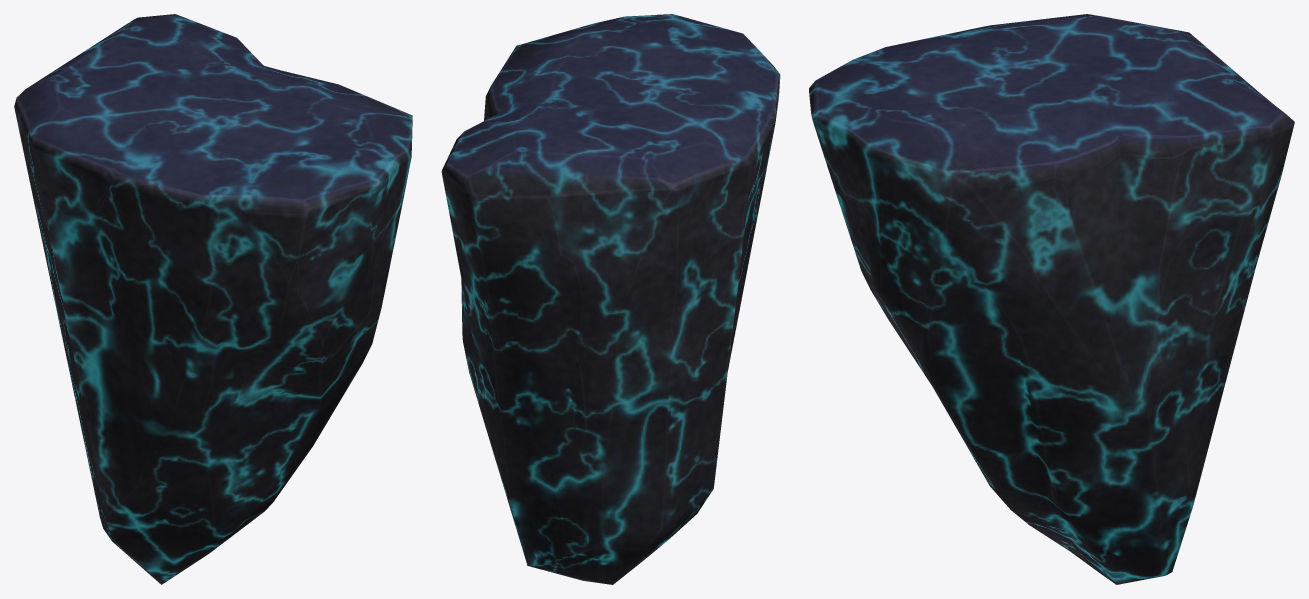
File: caos_stl_cliffrock_01b_v35.glb
3 views of the same model, side by side, from view 1: azimuth 30°, elevation 25°; view 2: azimuth 150°, elevation 25°; view 3: azimuth 270°, elevation 25° (orthographic). The views are drawn at different scales.
Parts seen in each view (by area): view 1: caos_stl_cliffrock_01b; view 2: caos_stl_cliffrock_01b; view 3: caos_stl_cliffrock_01b.
Boxes of the visible parts, <box> form: caos_stl_cliffrock_01b: <box>14,14,412,584</box>; caos_stl_cliffrock_01b: <box>441,14,780,584</box>; caos_stl_cliffrock_01b: <box>809,14,1294,584</box>.
Size of the model in its own units: 7.13 by 10.84 by 9.32.
Materials: 1 (1 with a texture image).
